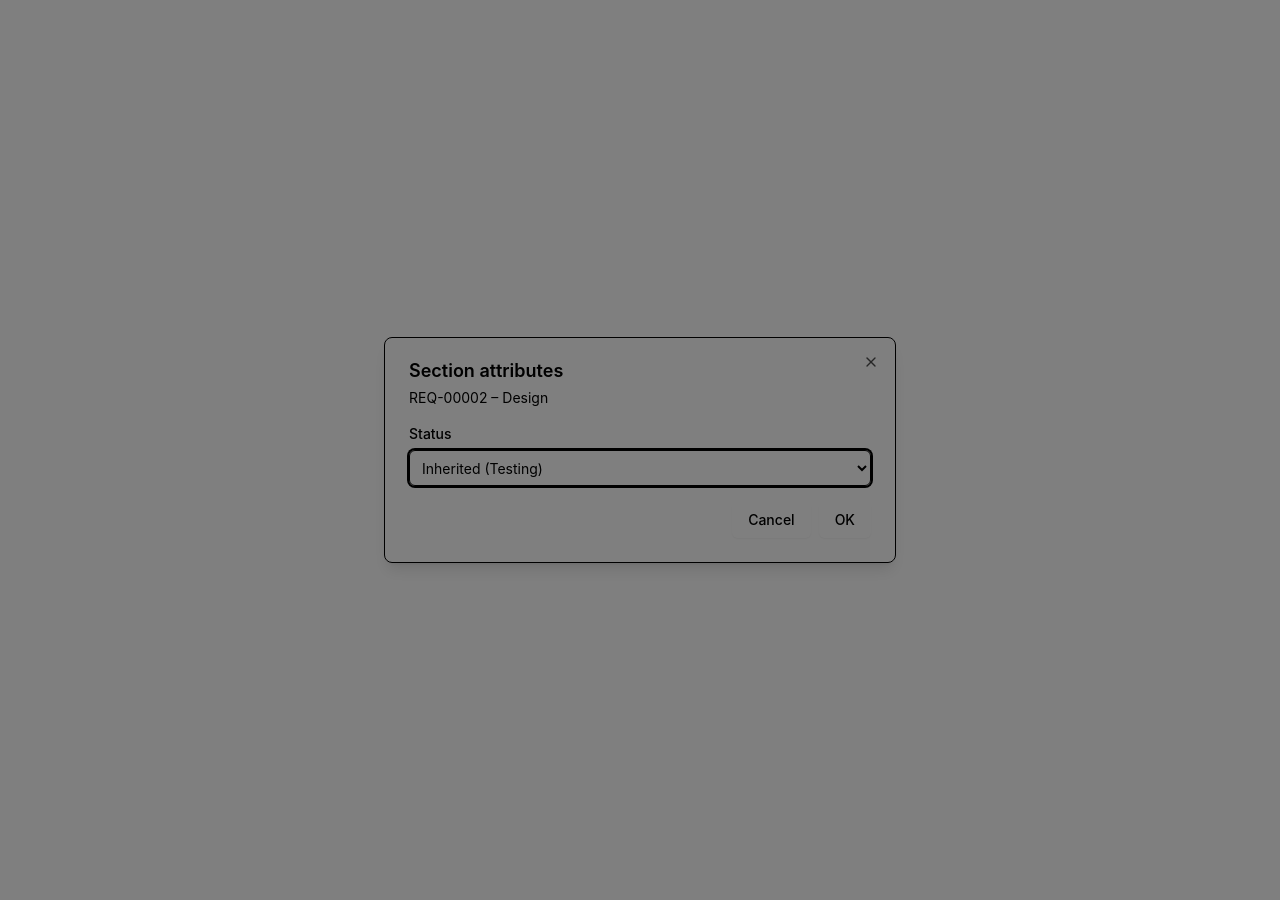
Test: an error from applying is shown and the dialog stays open
The width and height of the screenshot is (1280, 900).
Select "Draft" in the dropdown labelled "Status" at point(640, 468), box left=409, top=450, right=871, bottom=486
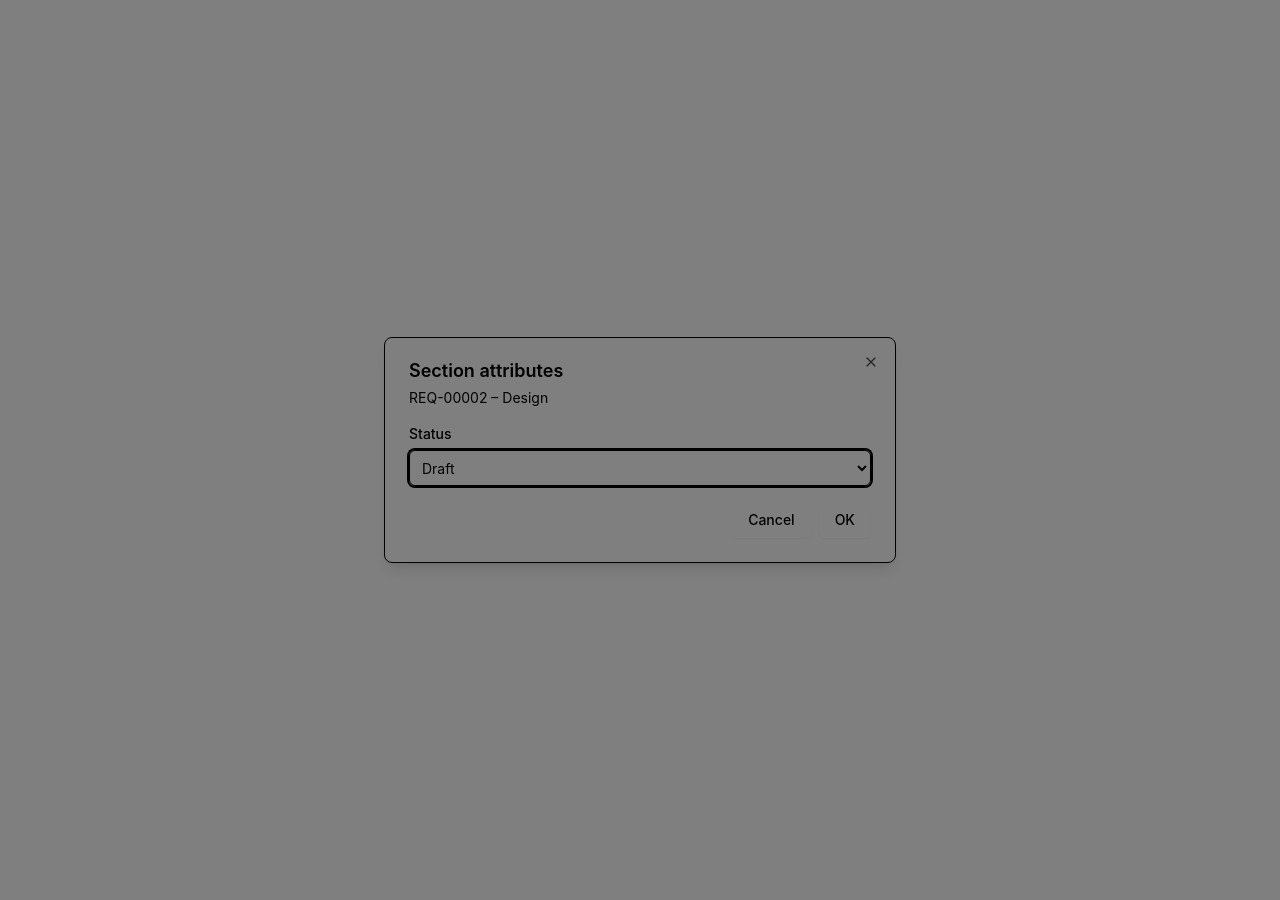
Click the button "OK".
click(845, 520)  # box left=819, top=502, right=871, bottom=538
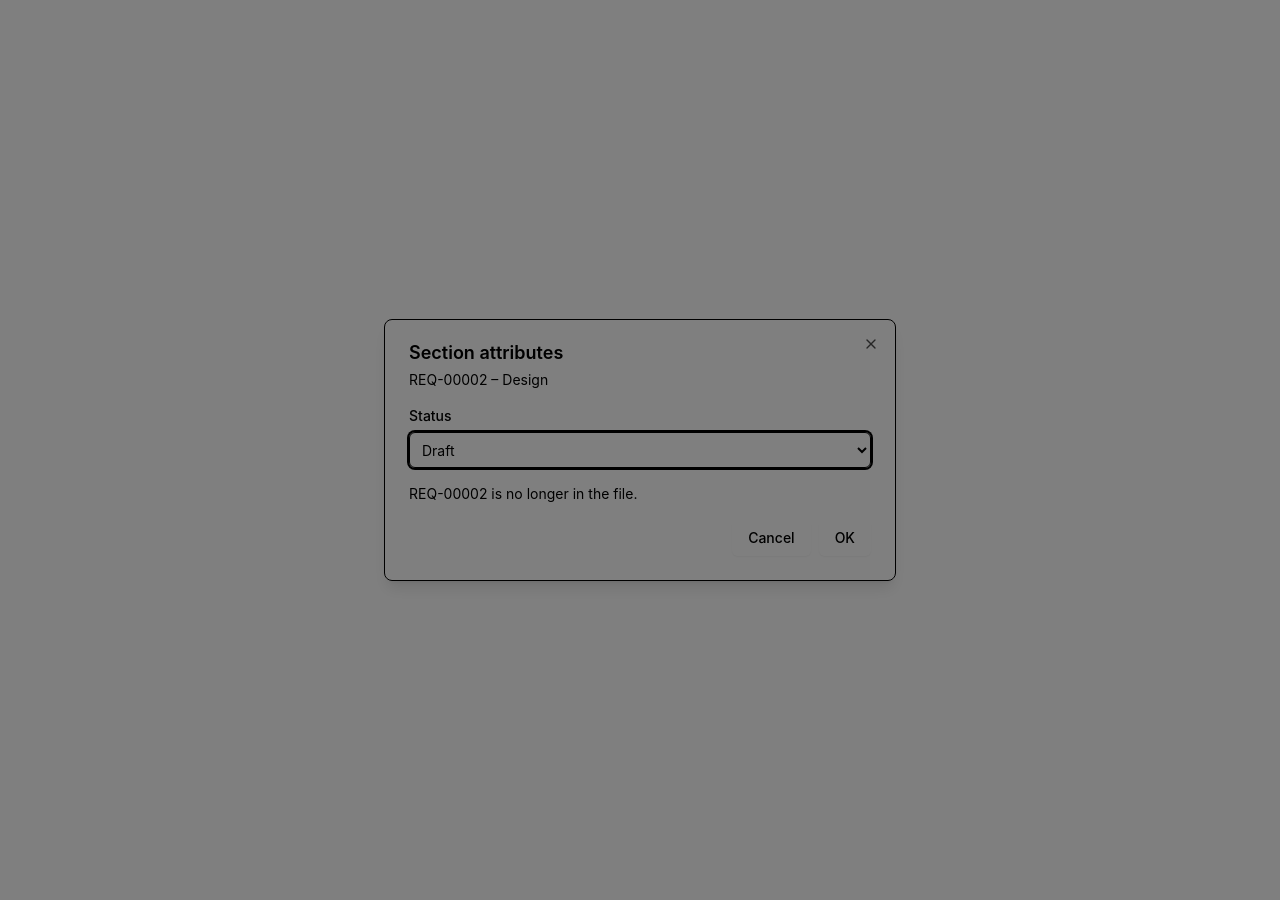
Expected: the message reads "REQ-00002 is no longer in the file.", left=409, top=485, right=637, bottom=502
